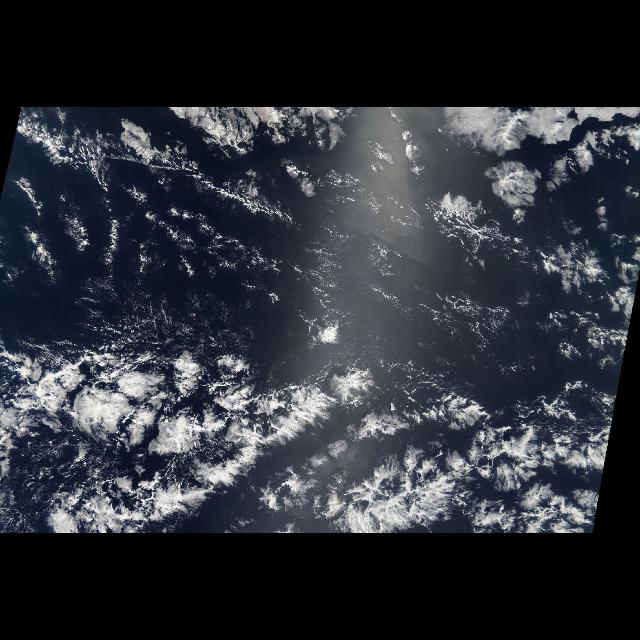Fish: (9, 122, 385, 308)
Flower: (12, 292, 638, 534), (410, 108, 640, 290)
Sugar: (14, 166, 514, 372)
